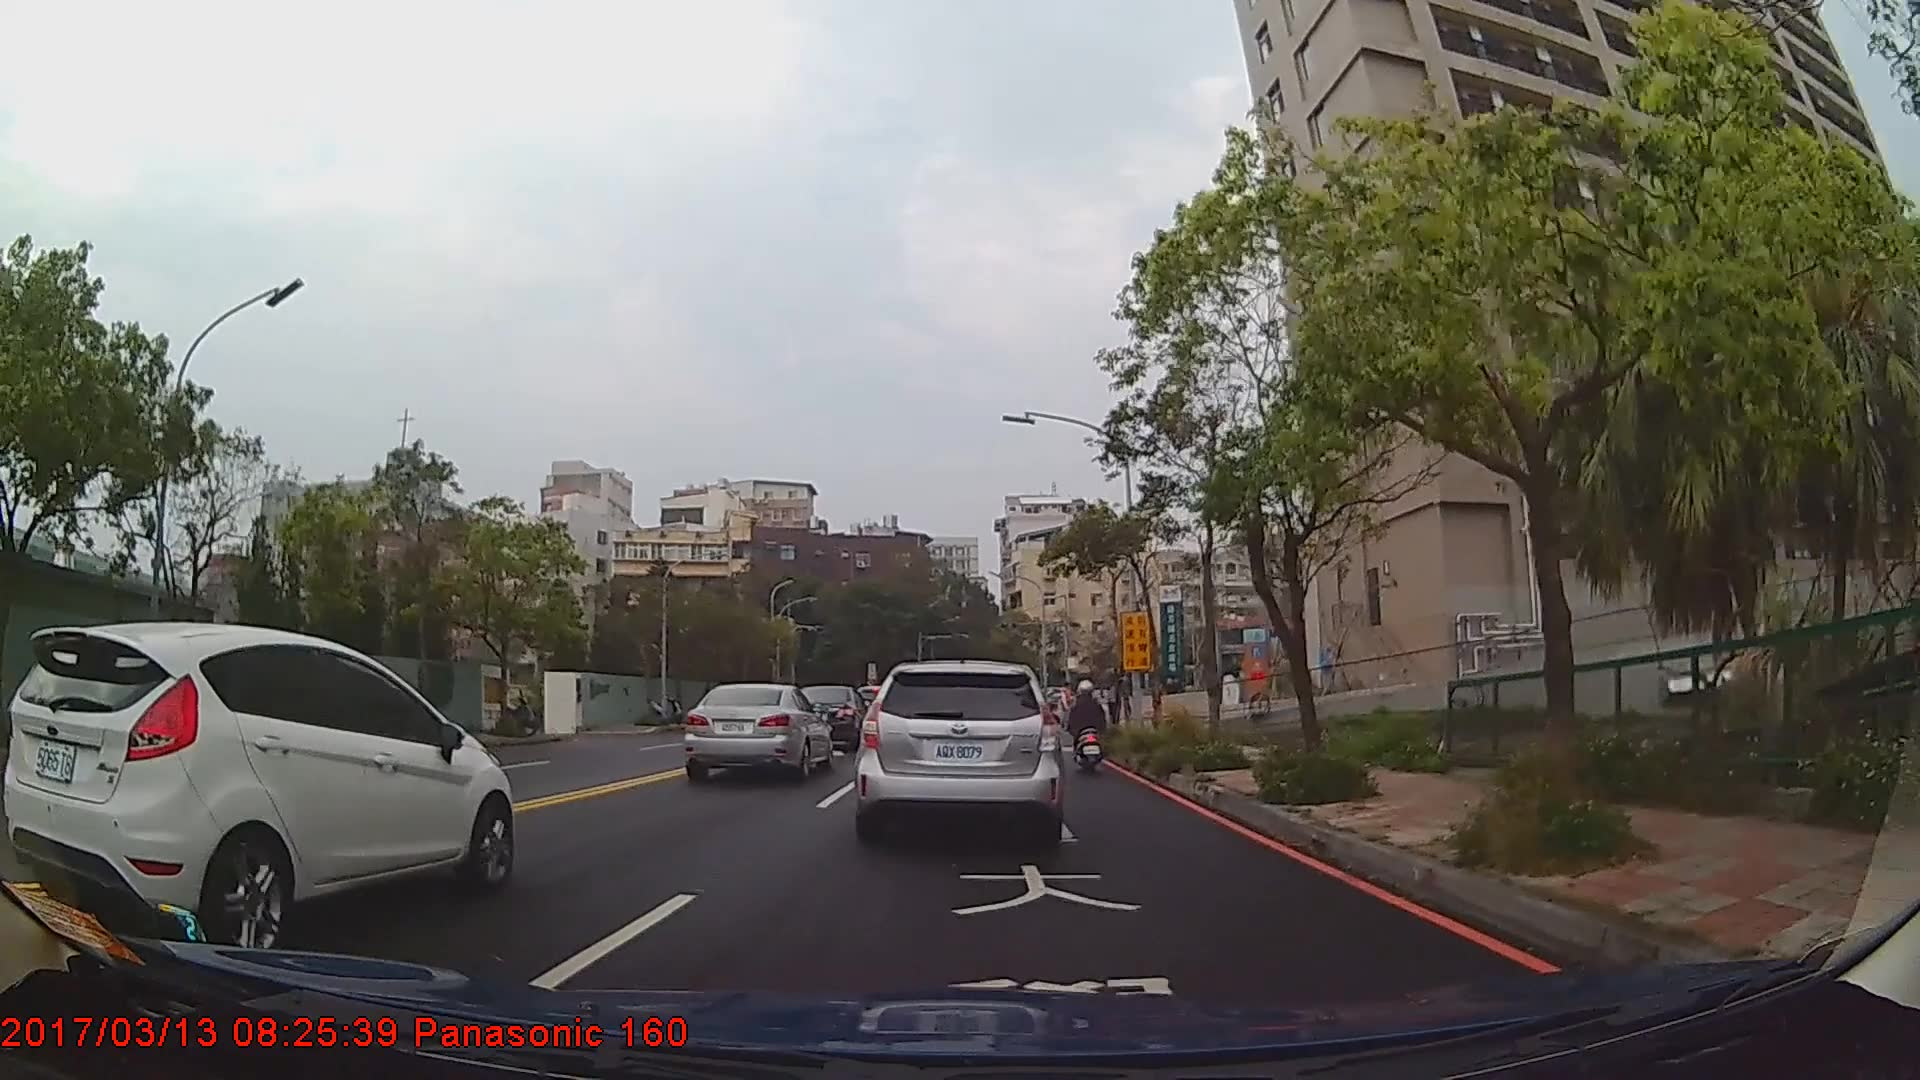rider: (1068, 681, 1109, 779)
vehicle: (5, 623, 512, 959), (854, 657, 1065, 841), (676, 681, 832, 782), (789, 684, 868, 748)
